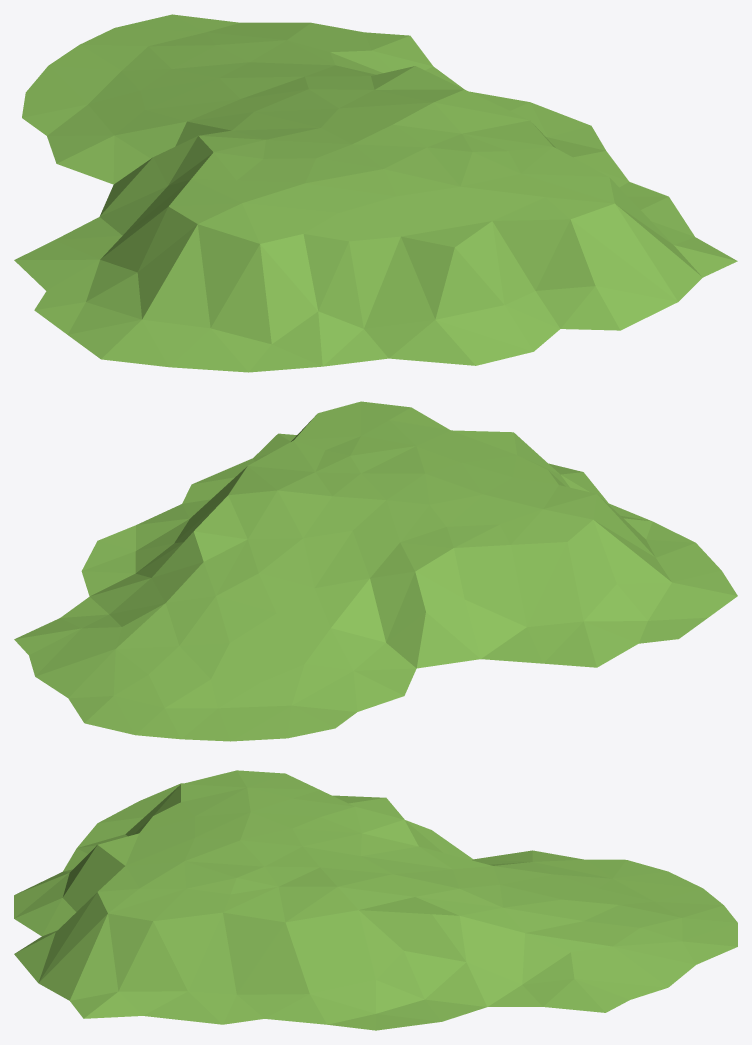
Rendered from MT_Mountain_M_c_14_LOD.fbx.
The picture shows the model from 3 angles, top to bottom: view 1: azimuth 30°, elevation 25°; view 2: azimuth 150°, elevation 25°; view 3: azimuth 270°, elevation 25°; orthographic projection. The views are drawn at different scales.
Visible parts, largest first — view 1: MT_Mountain_M_c_14_LOD0; view 2: MT_Mountain_M_c_14_LOD0; view 3: MT_Mountain_M_c_14_LOD0.
Part boxes in pixels (x1=…): MT_Mountain_M_c_14_LOD0: x1=14, y1=14, x2=737, y2=372; MT_Mountain_M_c_14_LOD0: x1=14, y1=401, x2=737, y2=741; MT_Mountain_M_c_14_LOD0: x1=14, y1=770, x2=737, y2=1030.
Size of what is drawn, in the model's own units: 3281 by 454 by 4062.
